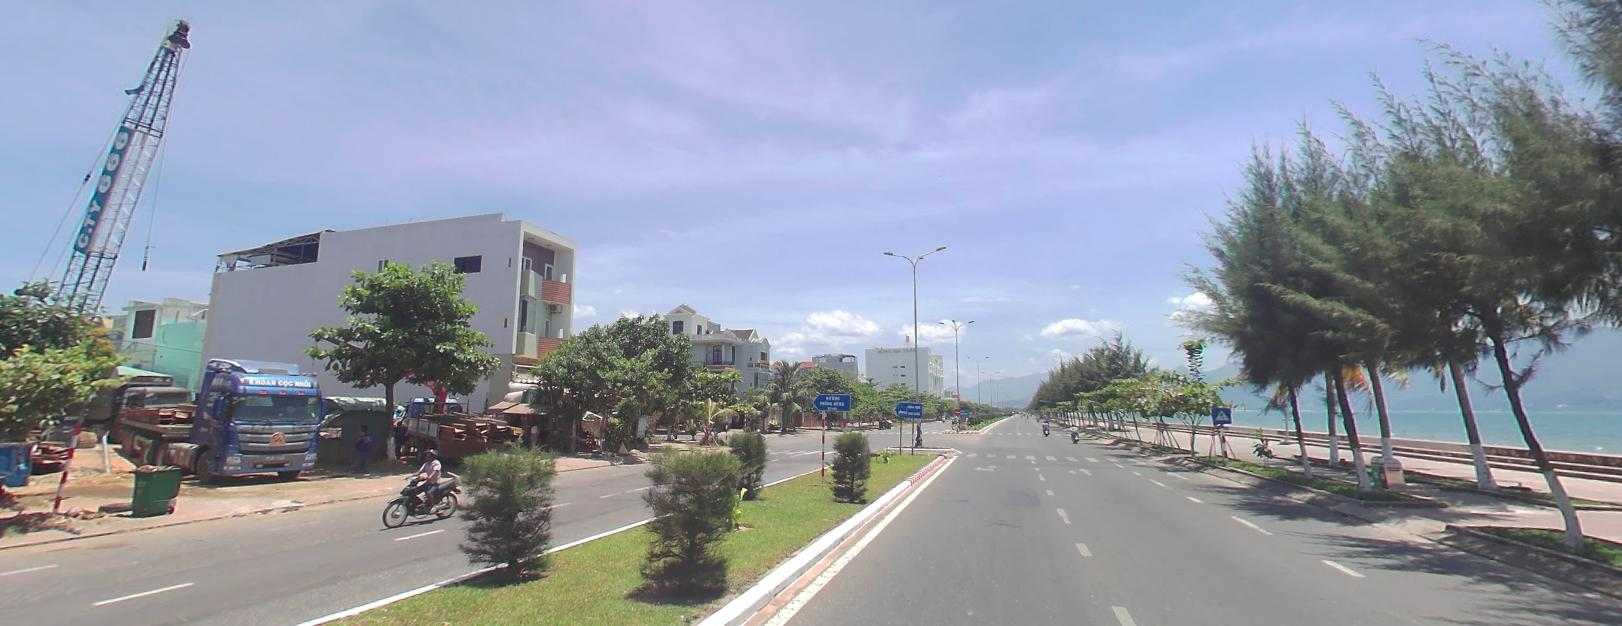Cam nguoc chieu: (953, 407, 960, 414)
